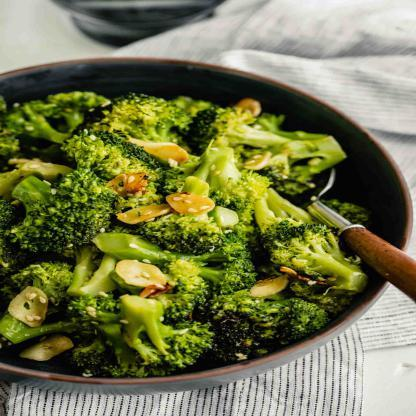broccoli: (0, 88, 374, 378)
